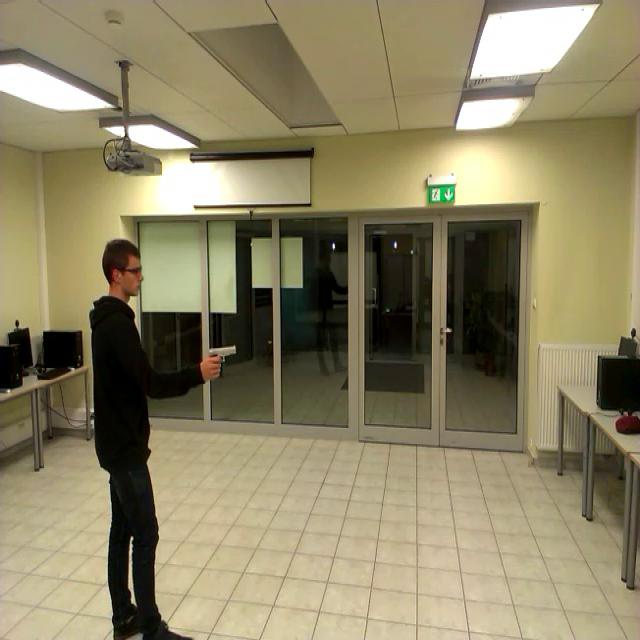handgun: (199, 332, 240, 378)
